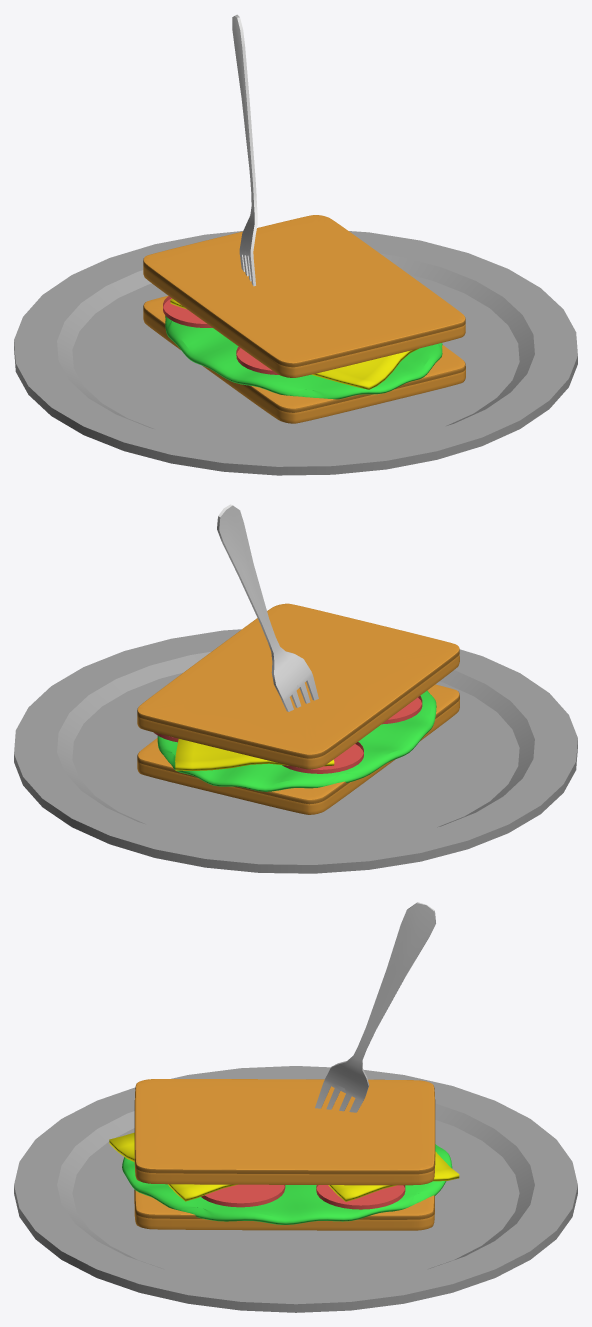
Rendered from boterham.glb.
3 views of the same model, one above another, from view 1: azimuth 30°, elevation 25°; view 2: azimuth 150°, elevation 25°; view 3: azimuth 270°, elevation 25° (orthographic).
Parts seen in each view (by area): view 1: Cylinder, Plane.001, Circle, Plane, Cube_fork_0, Plane.003, Circle.003; view 2: Cylinder, Plane.001, Circle, Plane, Cube_fork_0, Plane.002, Circle.003; view 3: Cylinder, Plane.001, Circle, Cube_fork_0, Plane, Circle.002, Circle.001, Plane.003, Plane.002.
Part boxes in pixels (box(x1,y1,x2,y2)): Cylinder: box(14, 231, 577, 475); Plane.001: box(143, 215, 465, 377); Circle: box(165, 316, 442, 399); Plane: box(143, 295, 465, 423); Cube_fork_0: box(232, 14, 257, 286); Plane.003: box(312, 348, 418, 389); Circle.003: box(163, 296, 212, 327); Cylinder: box(14, 629, 577, 873); Plane.001: box(137, 603, 459, 769); Circle: box(157, 690, 436, 791); Plane: box(137, 684, 459, 814); Cube_fork_0: box(217, 504, 318, 711); Plane.002: box(175, 739, 334, 770); Circle.003: box(282, 742, 363, 773); Cylinder: box(14, 1066, 577, 1312); Plane.001: box(134, 1079, 435, 1185); Circle: box(122, 1144, 452, 1224); Cube_fork_0: box(315, 902, 435, 1112); Plane: box(134, 1189, 434, 1230); Circle.002: box(201, 1184, 285, 1207); Circle.001: box(316, 1185, 405, 1209); Plane.003: box(109, 1132, 237, 1201); Plane.002: box(328, 1151, 459, 1201).
Size of the model in its own units: 12.65 by 7.25 by 12.65.
